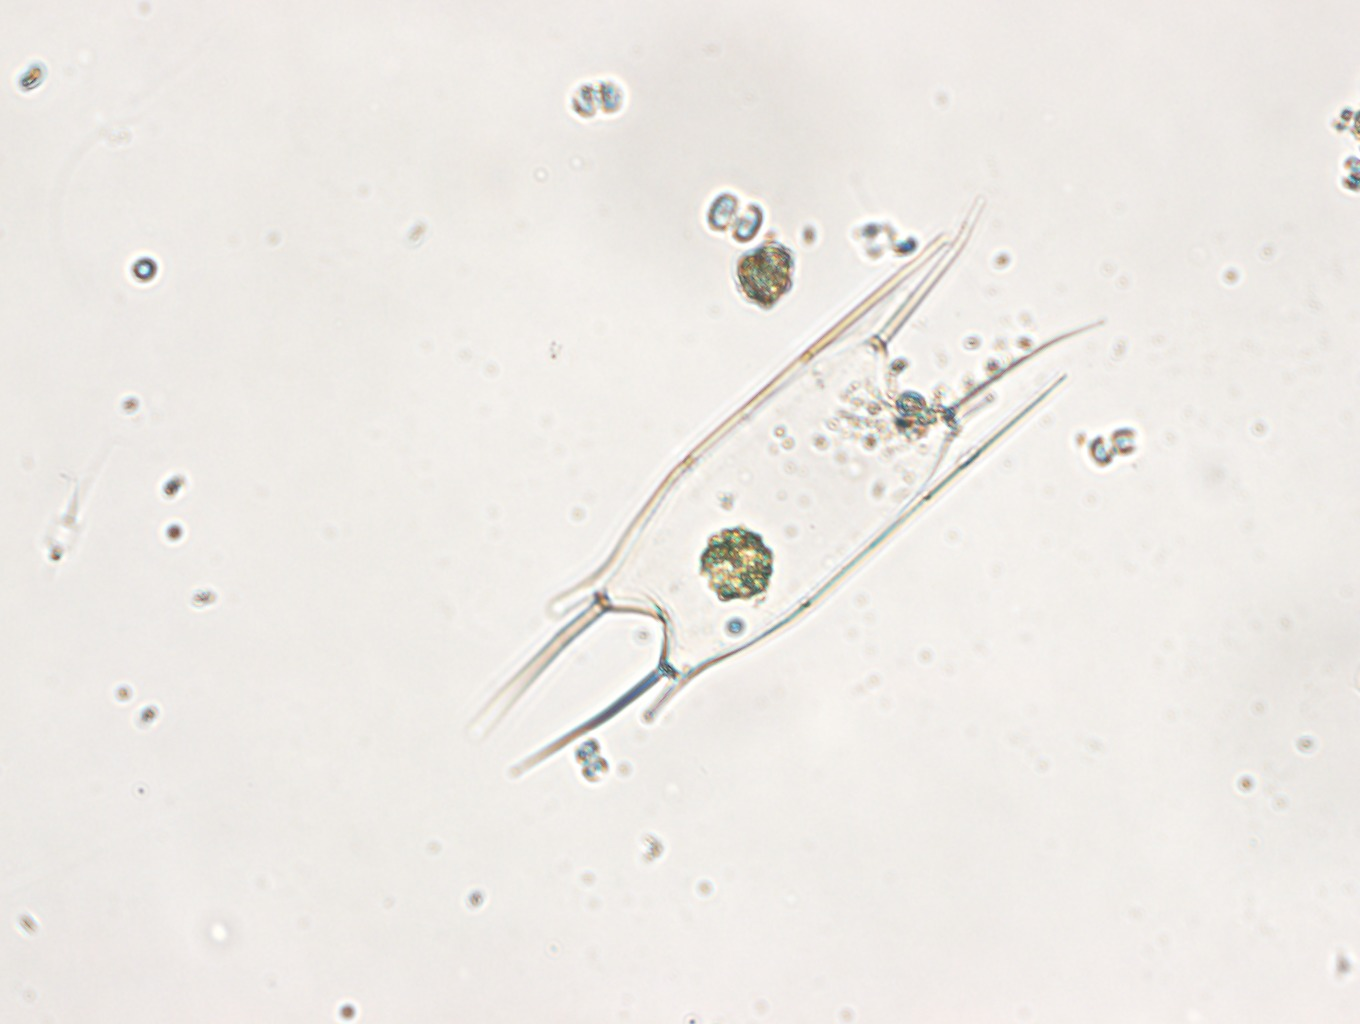biddulphia: (471, 227, 1075, 783)
